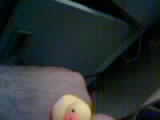duck: (52, 83, 104, 113)
